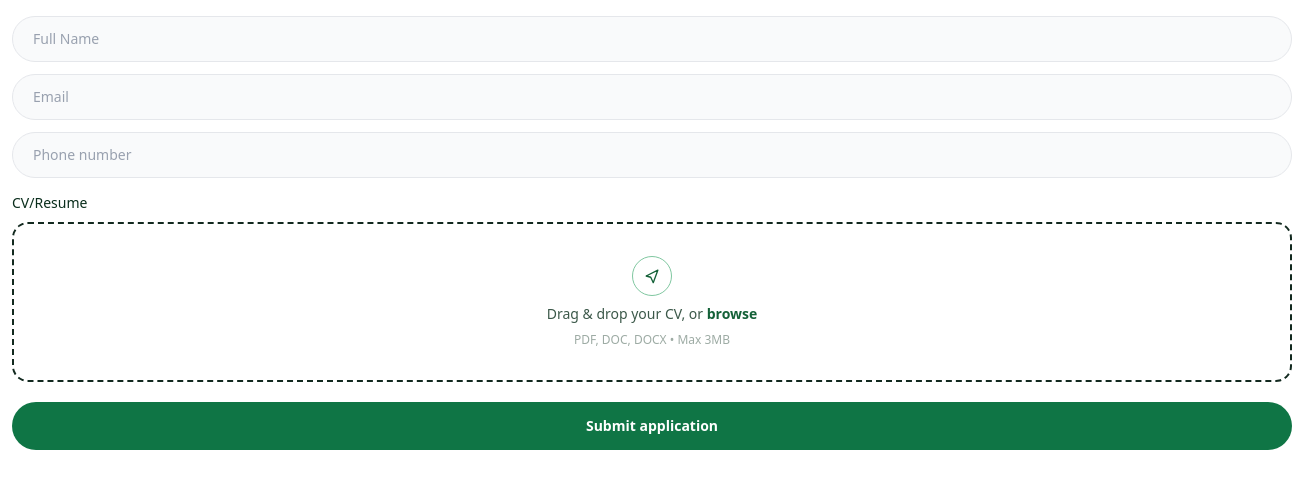
Test: ApplyForm › shows an error and never uploads when no CV is attached
In the field with placeholder "Full Name": (652, 39) [12,16,1292,62], type "Jamie Rivera"
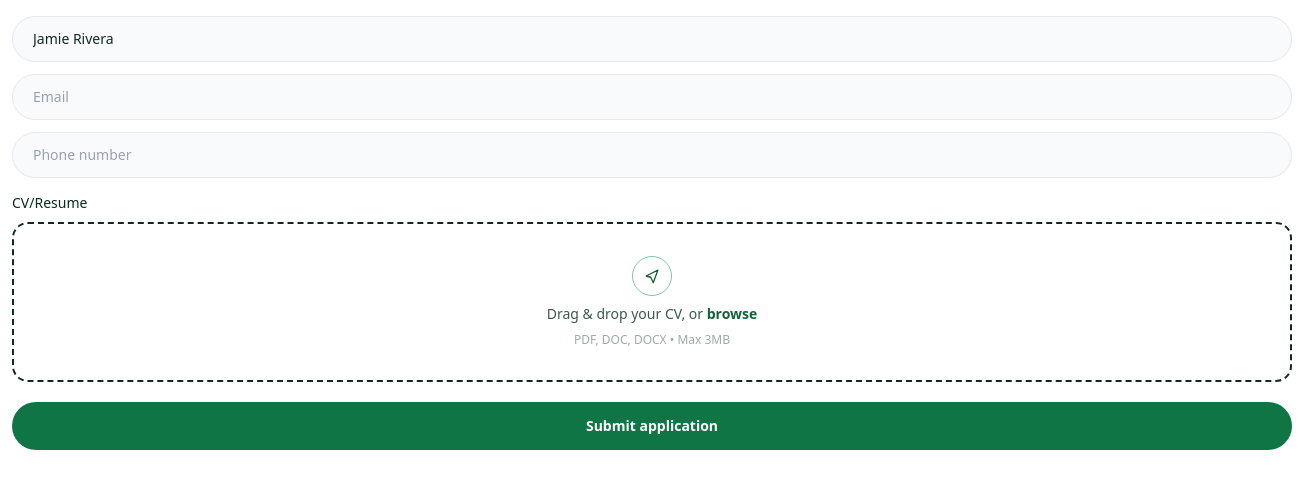
In the field with placeholder "Email": (652, 97) [12,74,1292,120], type "jamie@example.com"
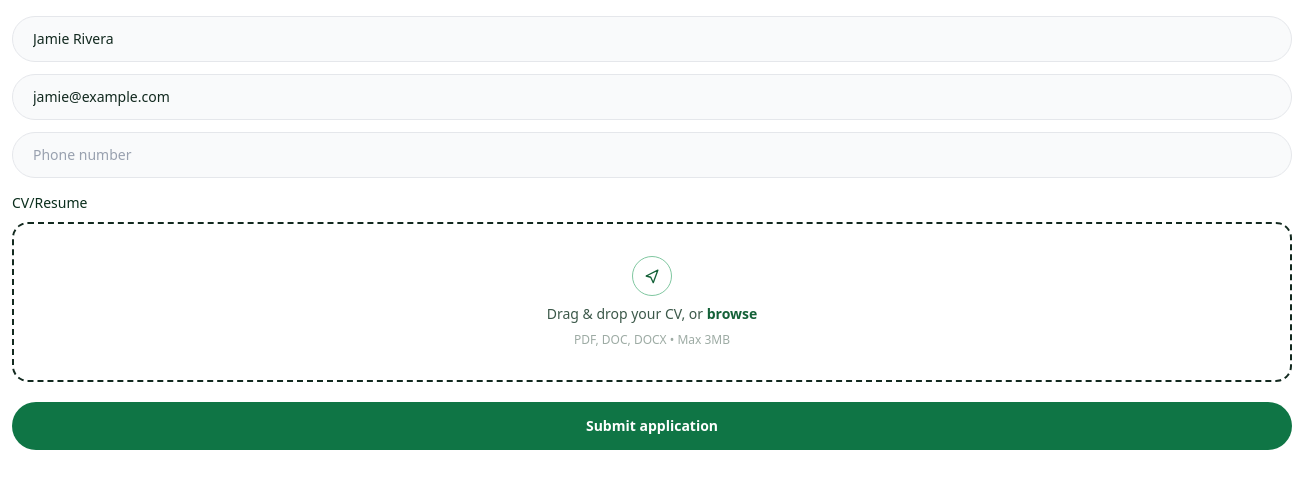
In the field with placeholder "Phone number": (652, 155) [12,132,1292,178], type "555-0100"
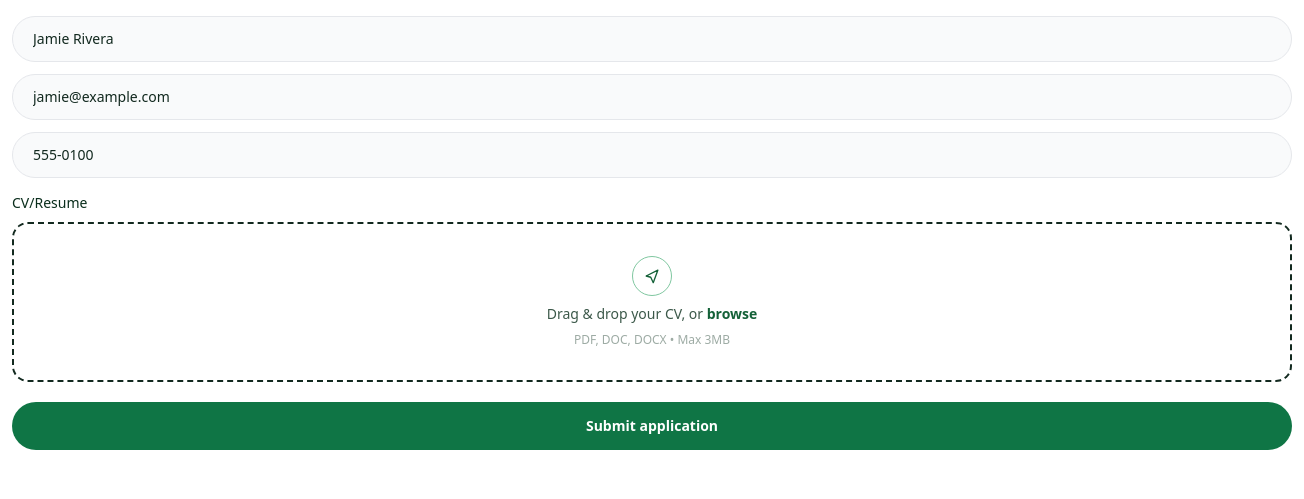
Submit the form
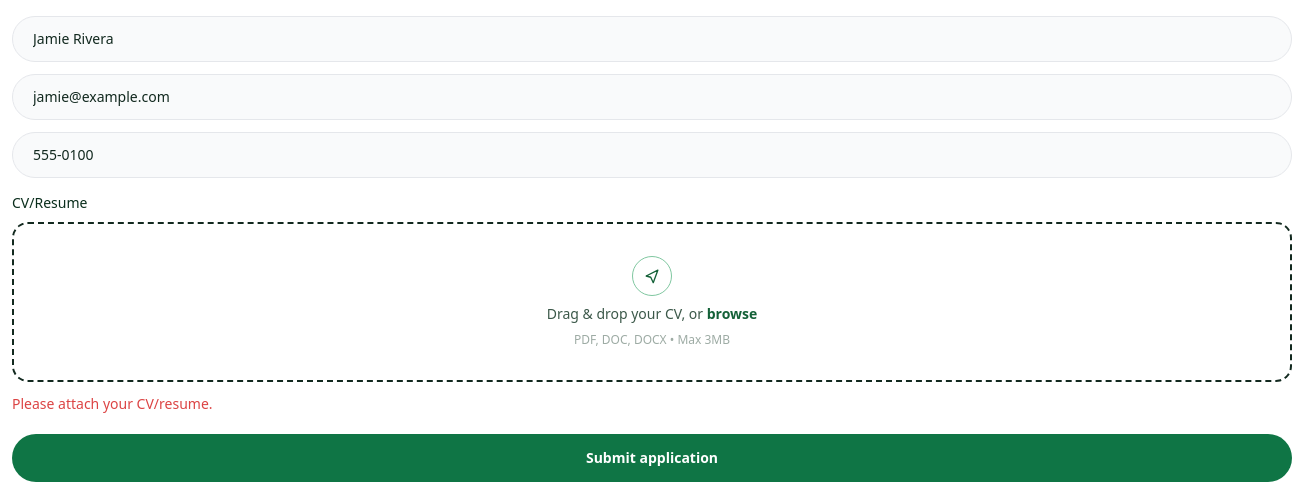
Check: the text "Please attach your CV/resume." is shown, box [12,394,212,413]
